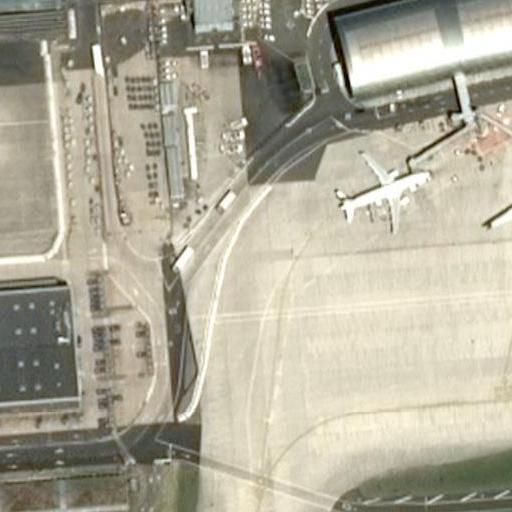Aircraft: (329, 151, 431, 231), (481, 125, 512, 277)
